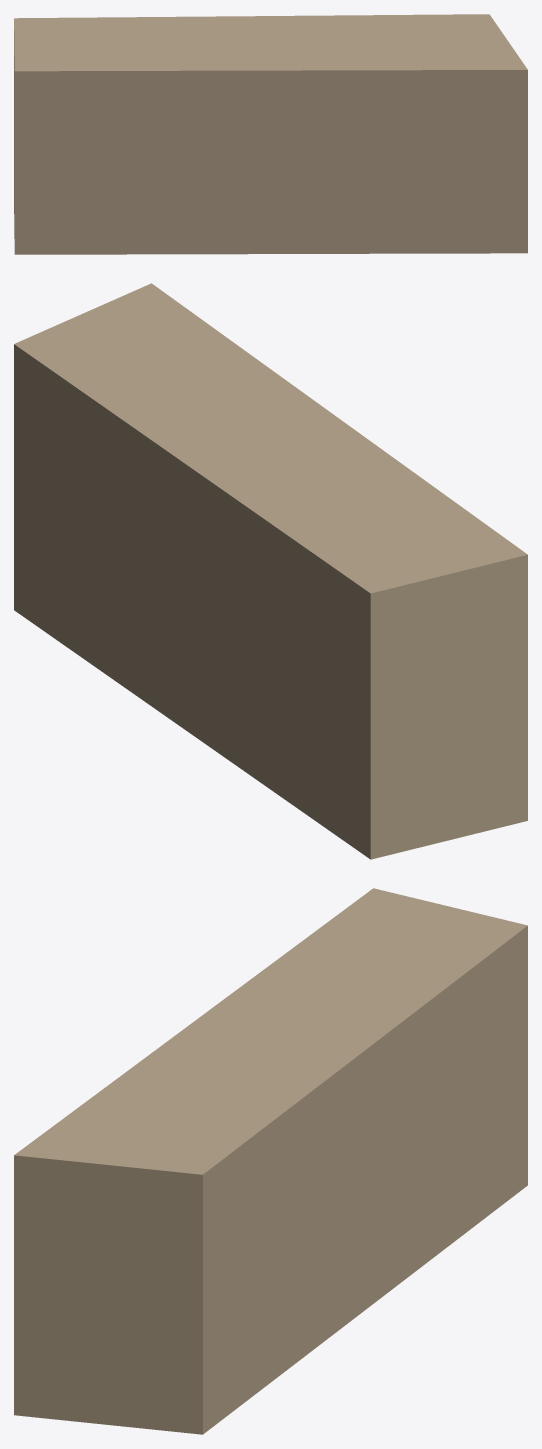
Rendered from bld_101791625.dae.
3 views of the same model, one above another, from view 1: azimuth 30°, elevation 25°; view 2: azimuth 150°, elevation 25°; view 3: azimuth 270°, elevation 25° (orthographic). The views are drawn at different scales.
Visible parts, largest first — view 1: bld_101791625; view 2: bld_101791625; view 3: bld_101791625.
Boxes of the visible parts, x1=… form: bld_101791625: x1=14, y1=14, x2=527, y2=254; bld_101791625: x1=14, y1=283, x2=527, y2=859; bld_101791625: x1=14, y1=888, x2=527, y2=1434.
Size of the model in its own units: 18.92 by 14.34 by 8.
